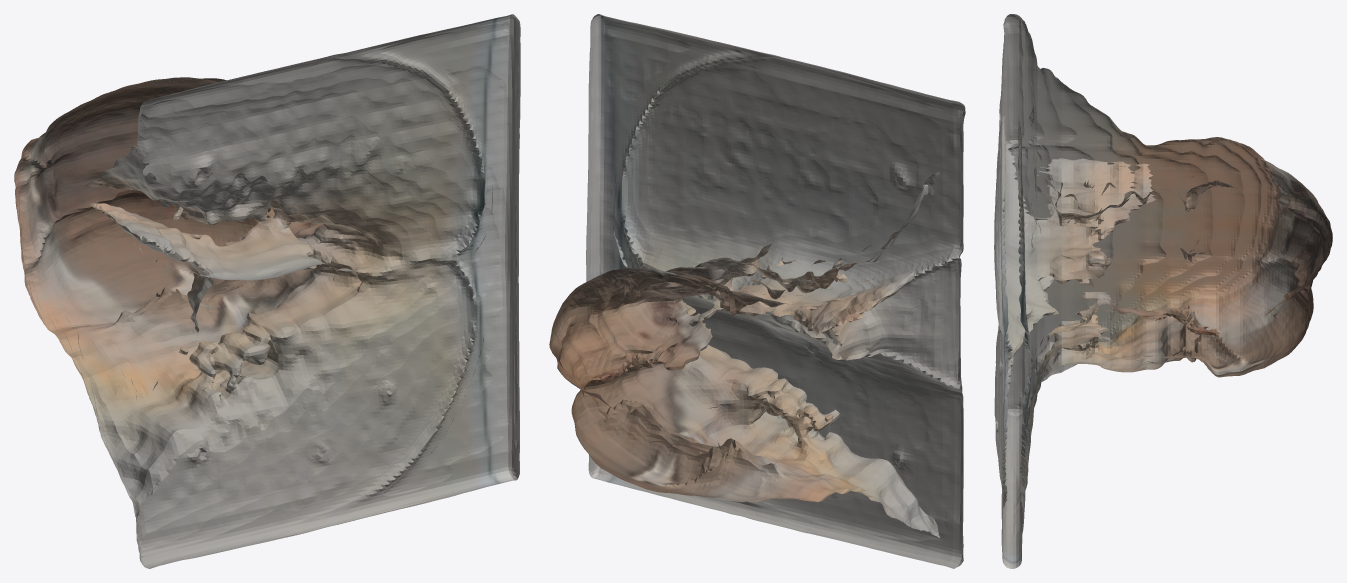
File: triposr_test.glb
The picture shows the model from 3 angles, left to right: view 1: azimuth 30°, elevation 25°; view 2: azimuth 150°, elevation 25°; view 3: azimuth 270°, elevation 25°; orthographic projection. The views are drawn at different scales.
Visible parts, largest first — view 1: world; view 2: world; view 3: world.
Boxes of the visible parts, box(x1,y1,x2,y2) form: world: box(14, 14, 520, 568); world: box(549, 14, 965, 568); world: box(994, 14, 1332, 568).
Bounding box in the file's own units: 0.842 × 1.01 × 0.7641.
